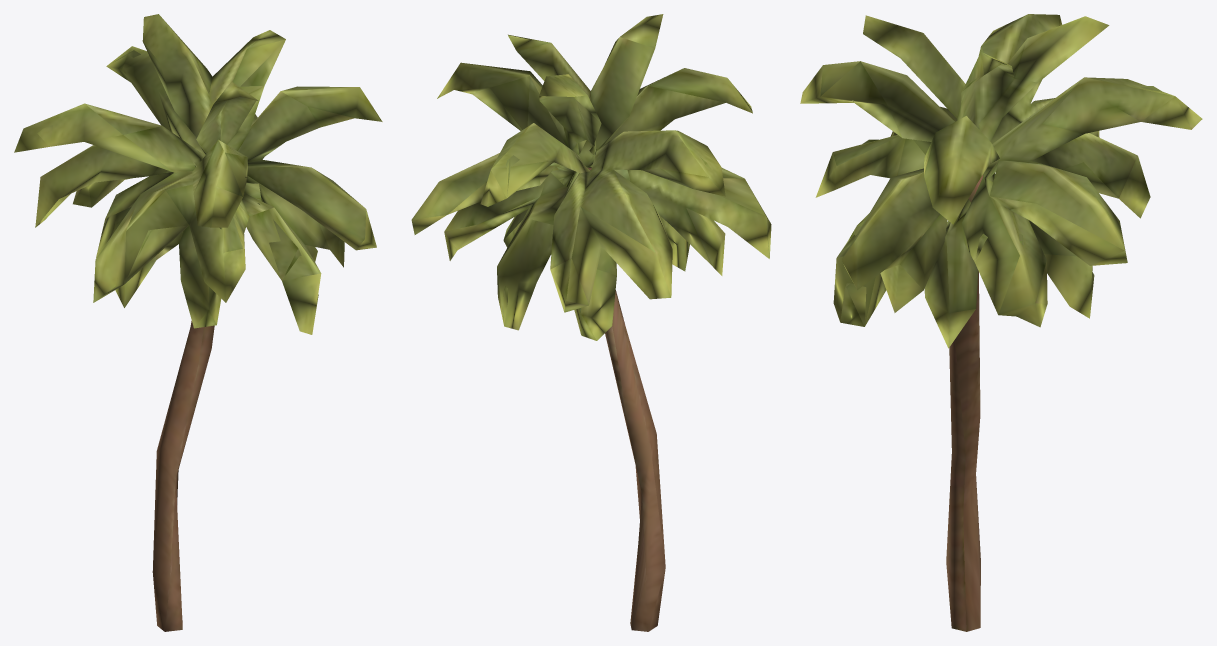
The model's file is palm_a_far.glb.
3 views of the same model, side by side, from view 1: azimuth 30°, elevation 25°; view 2: azimuth 150°, elevation 25°; view 3: azimuth 270°, elevation 25° (orthographic). The views are drawn at different scales.
Parts seen in each view (by area): view 1: body; view 2: body; view 3: body.
Part boxes in pixels (x1,y1,x2,y2): body: [14, 14, 382, 631]; body: [411, 14, 771, 631]; body: [800, 14, 1202, 631].
Bounding box in the file's own units: 5.17 × 8.58 × 4.95.
Materials: 2 (2 with a texture image).
